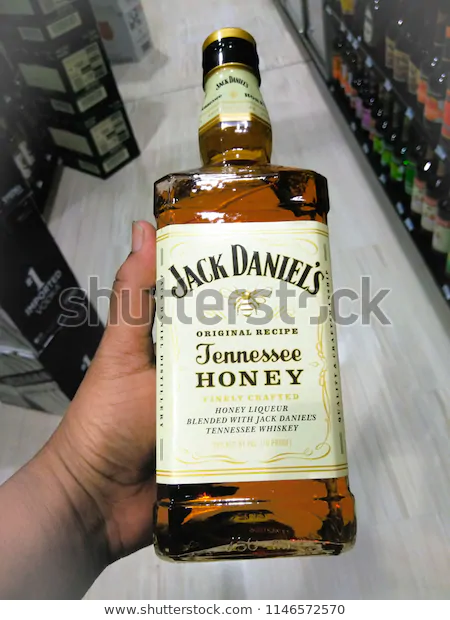Jack Daniel: (137, 18, 371, 574)
